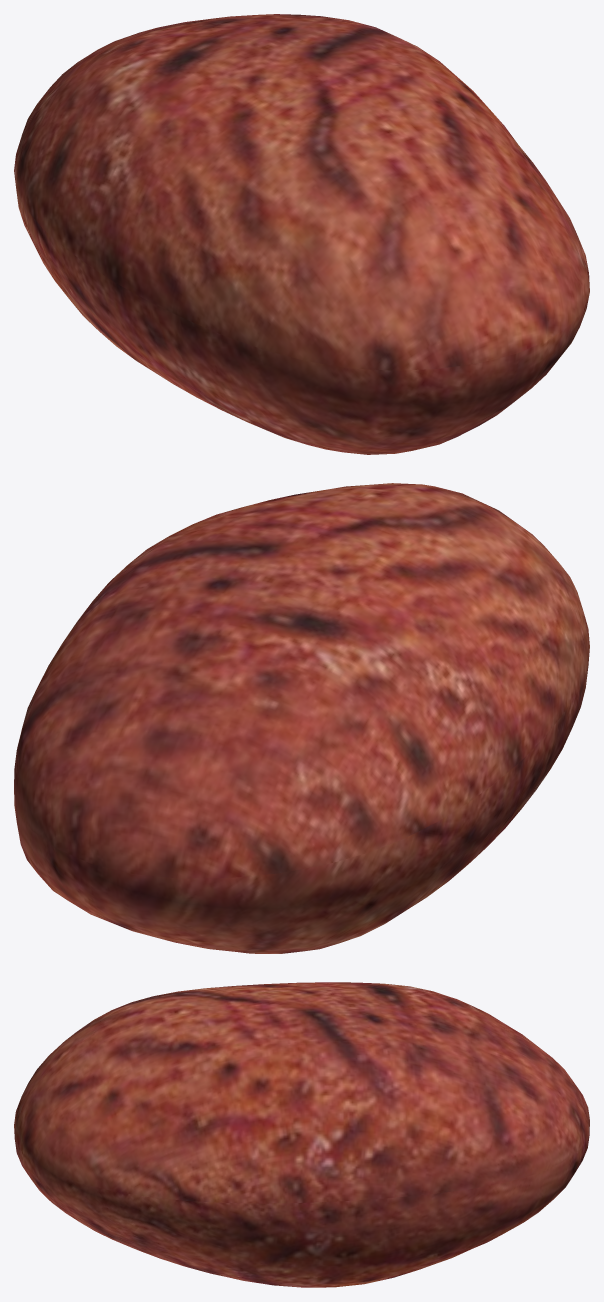
The model's file is HoneyPeachSeed.obj.
The picture shows the model from 3 angles, top to bottom: view 1: azimuth 30°, elevation 25°; view 2: azimuth 150°, elevation 25°; view 3: azimuth 270°, elevation 25°; orthographic projection. The views are drawn at different scales.
Parts seen in each view (by area): view 1: HoneyPeachSeed; view 2: HoneyPeachSeed; view 3: HoneyPeachSeed.
Boxes of the visible parts, bbox=[...] form: HoneyPeachSeed: bbox=[14, 14, 589, 454]; HoneyPeachSeed: bbox=[14, 483, 589, 953]; HoneyPeachSeed: bbox=[14, 982, 589, 1287].
Bounding box in the file's own units: 0.0338 × 0.0266 × 0.0549.
1 material, 1 textured.
